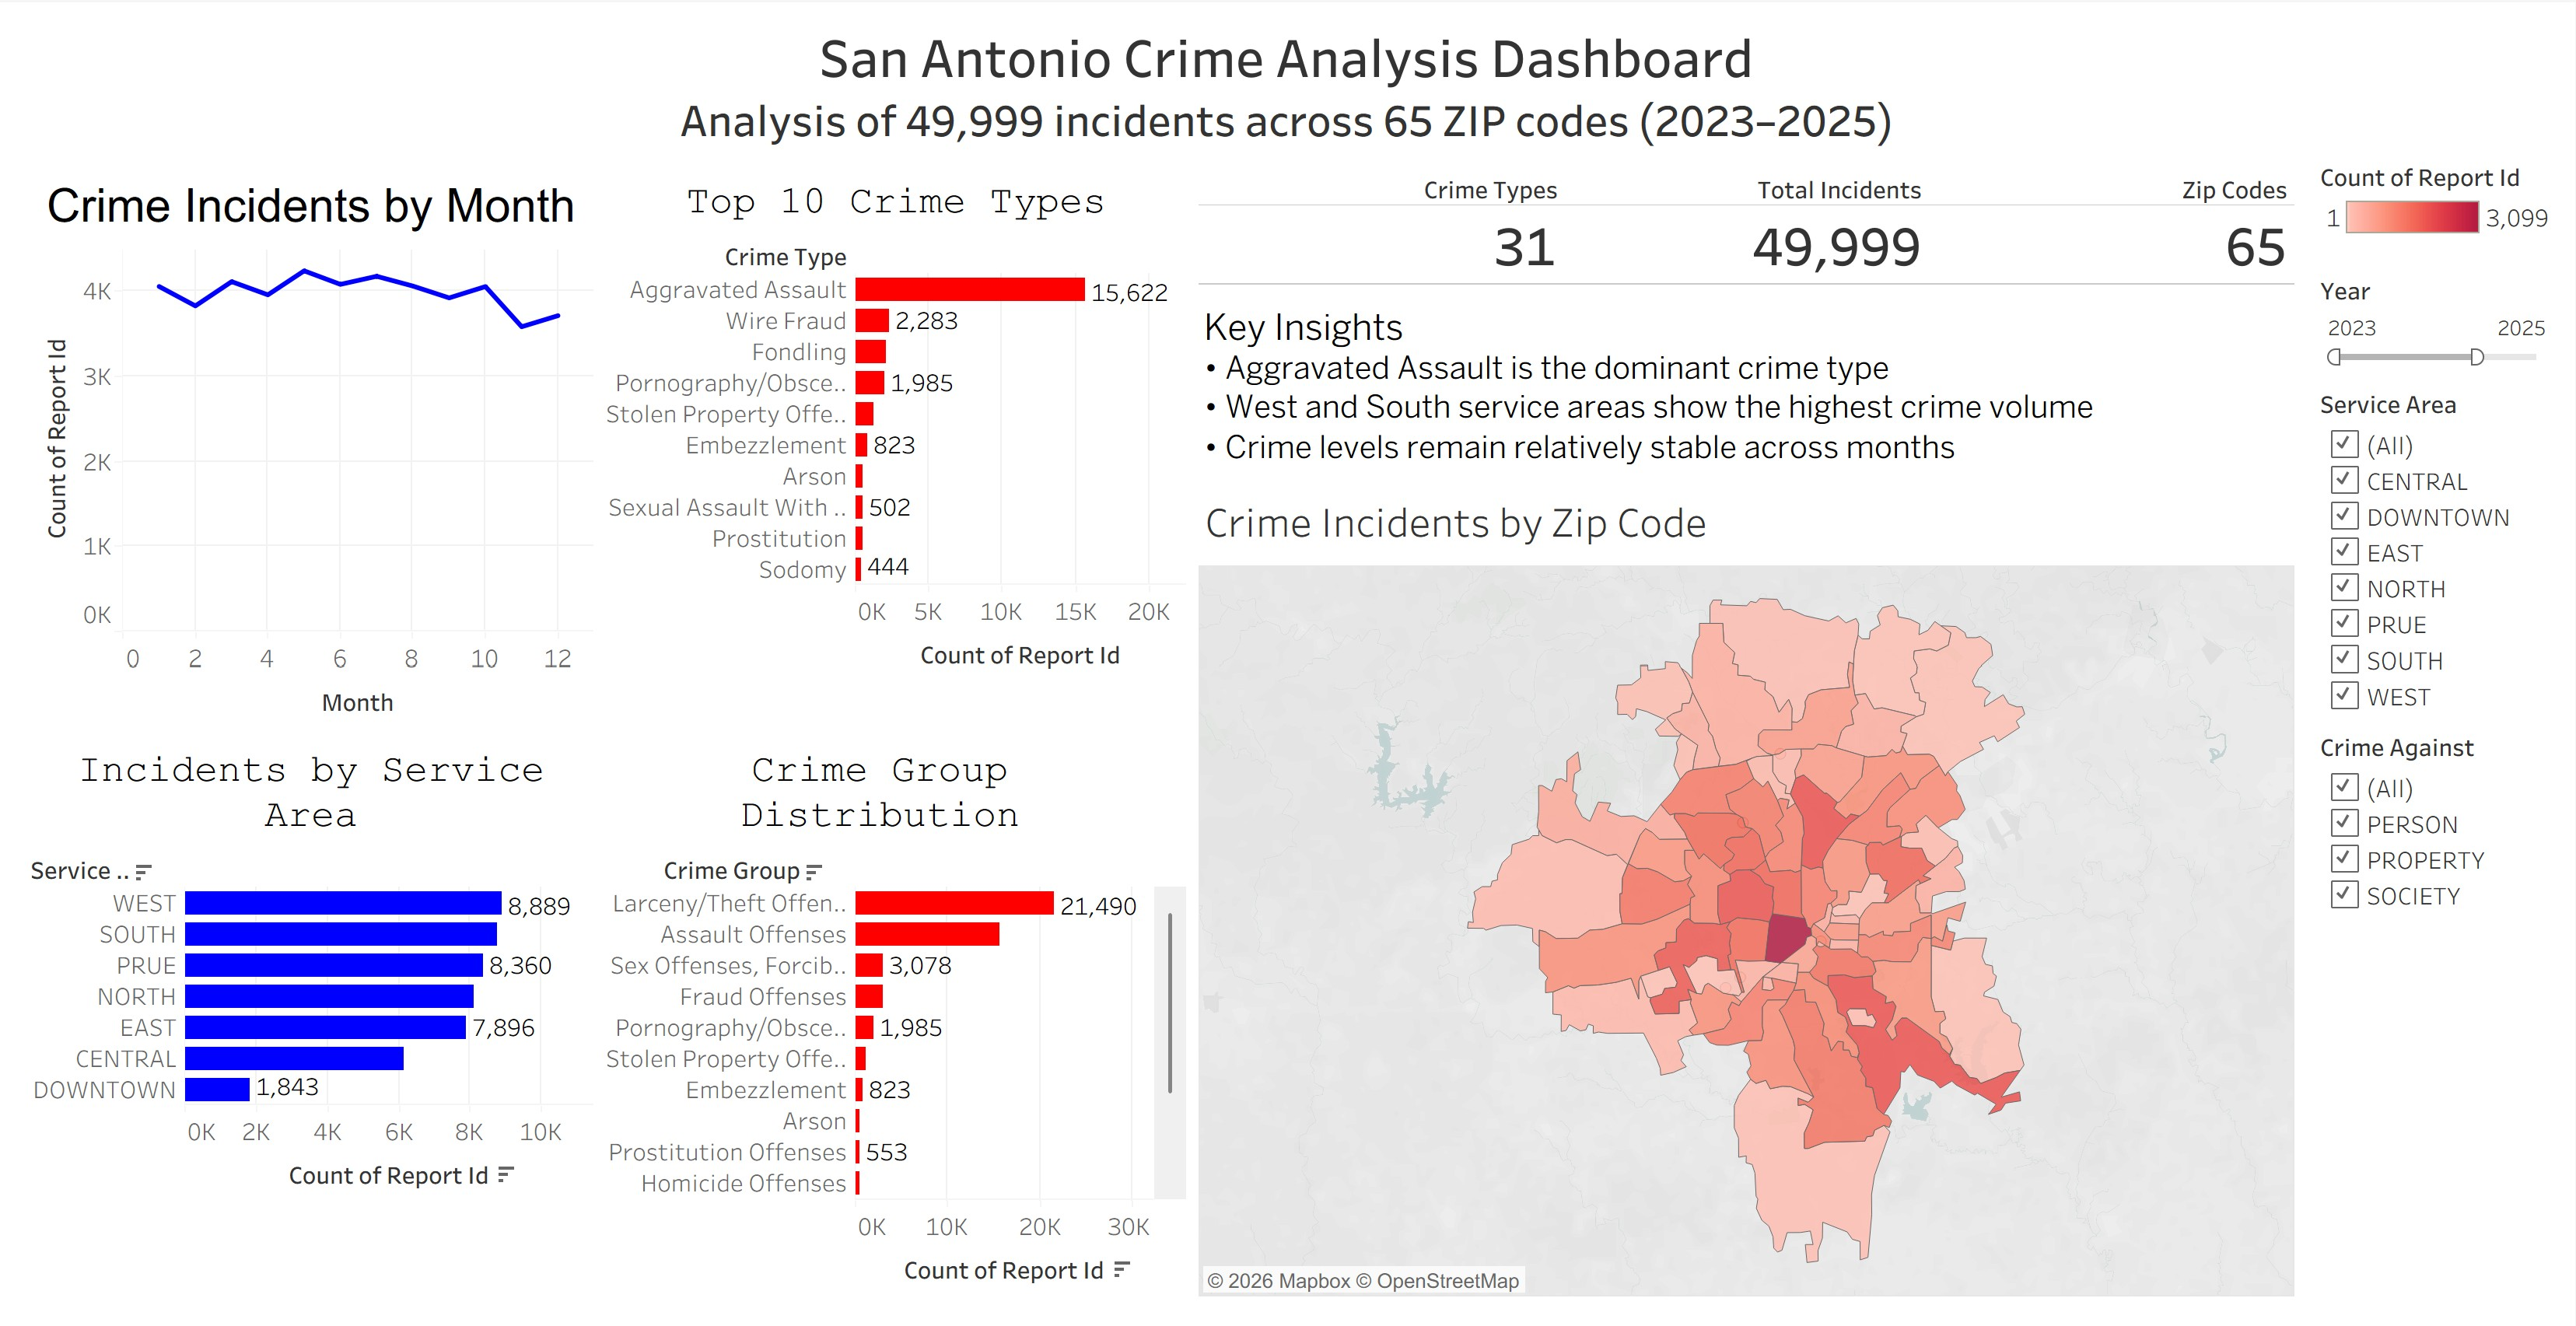

What the dashboard file says about the page in this screenshot:
{"tool":"tableau","page":{"name":"San Antonio Crime Intelligence","canvas":[1000,1000],"units":"permille","ordinal":0},"visuals":[{"type":"title","box":[4.8,9.4,990.3,105.6]},{"type":"legend","title":"Zip Code Hotspots","param":"[federated.0kb1z3i17xgube1gs2iw6066180n].[cnt:report_id:qk]","box":[898.6,115,96.6,85.7]},{"type":"worksheet","title":"Monthly Trend","mark":"Line","rows":["report_id"],"cols":["month"],"box":[9.7,124.4,223.7,428.4]},{"type":"worksheet","title":"Top Crime Types","mark":"Automatic","rows":["crime_type"],"cols":["report_id"],"box":[233.4,124.4,230.1,428.4]},{"type":"worksheet","title":"KPIs","mark":"Automatic","box":[463.5,124.4,430.3,93.9]},{"type":"filter","title":"Monthly Trend","param":"[federated.0kb1z3i17xgube1gs2iw6066180n].[none:year:qk]","box":[898.6,200.7,96.6,85.7]},{"type":"text","box":[463.5,218.3,430.3,143.2]},{"type":"filter","title":"Top Crime Types","param":"[federated.0kb1z3i17xgube1gs2iw6066180n].[none:service_area:nk]","box":[898.6,286.4,96.6,258.2]},{"type":"worksheet","title":"Zip Code Hotspots","mark":"Multipolygon","box":[463.5,361.5,430.3,619.7]},{"type":"filter","title":"Crime Group Breakdown","param":"[federated.0kb1z3i17xgube1gs2iw6066180n].[none:crime_against:nk]","box":[898.6,544.6,96.6,150.2]},{"type":"worksheet","title":"Service Area Activity","mark":"Automatic","rows":["service_area"],"cols":["report_id"],"box":[9.7,552.8,223.7,428.4]},{"type":"worksheet","title":"Crime Group Breakdown","mark":"Automatic","rows":["crime_group"],"cols":["report_id"],"box":[233.4,552.8,230.1,428.4]}]}

Visuals, with their boxes on the dashboard's canvas, which has no fixed pixel size, in thousandths of its width and height (x1, y1, x2, y2). These are canvas units, not pixel positions in the 2576x1326 screenshot, which may show the page scaled, cropped or inside an application window:
title: pyautogui.locateOnScreen(5, 9, 995, 115)
"Zip Code Hotspots" legend: pyautogui.locateOnScreen(899, 115, 995, 201)
"Monthly Trend" worksheet (Line marks): pyautogui.locateOnScreen(10, 124, 233, 553)
"Top Crime Types" worksheet: pyautogui.locateOnScreen(233, 124, 464, 553)
"KPIs" worksheet: pyautogui.locateOnScreen(464, 124, 894, 218)
"Monthly Trend" filter: pyautogui.locateOnScreen(899, 201, 995, 286)
text: pyautogui.locateOnScreen(464, 218, 894, 362)
"Top Crime Types" filter: pyautogui.locateOnScreen(899, 286, 995, 545)
"Zip Code Hotspots" worksheet (Multipolygon marks): pyautogui.locateOnScreen(464, 362, 894, 981)
"Crime Group Breakdown" filter: pyautogui.locateOnScreen(899, 545, 995, 695)
"Service Area Activity" worksheet: pyautogui.locateOnScreen(10, 553, 233, 981)
"Crime Group Breakdown" worksheet: pyautogui.locateOnScreen(233, 553, 464, 981)
